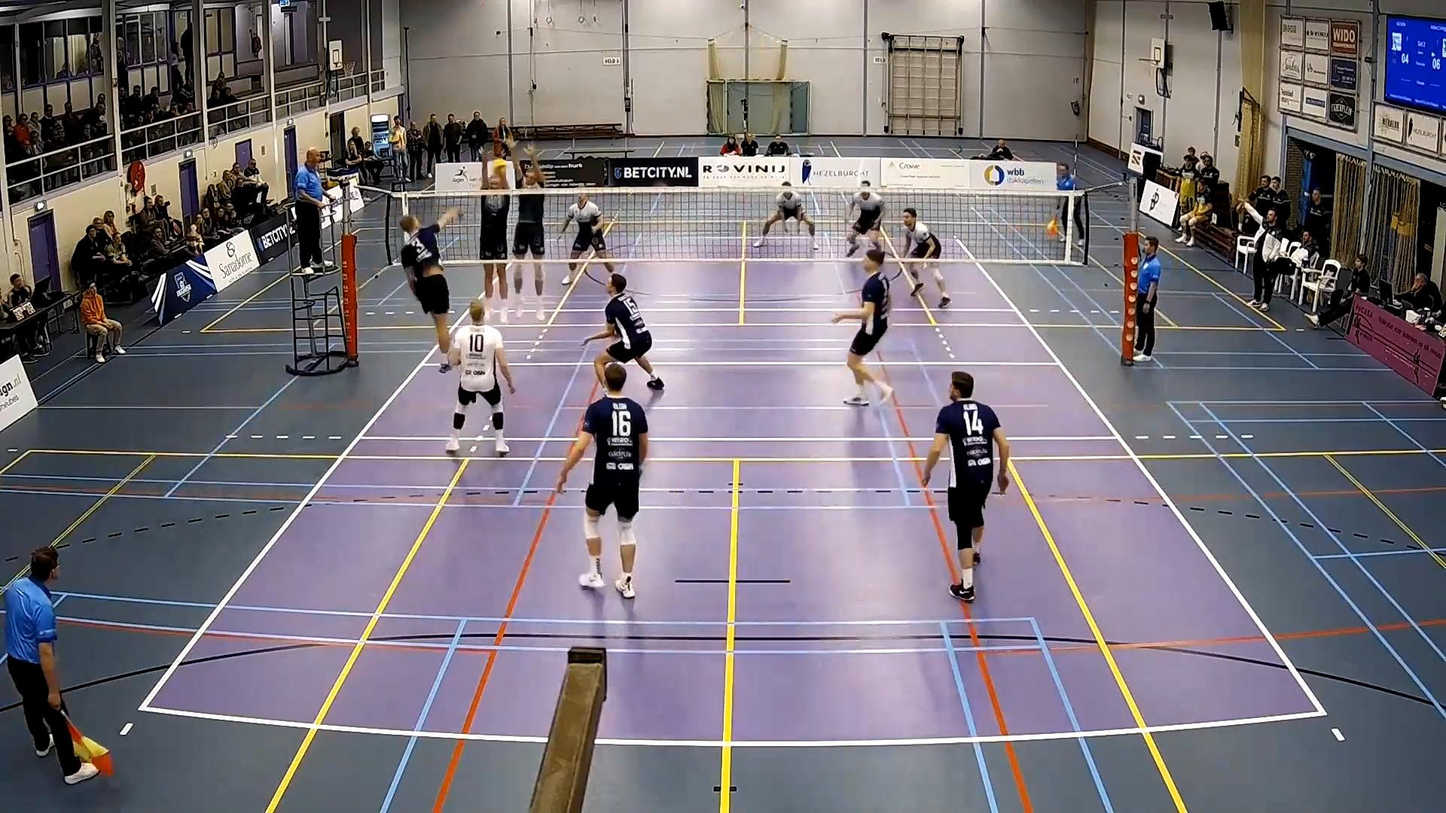Attack: (389, 200, 476, 374)
Block: (507, 139, 546, 321), (476, 147, 513, 326)
Player: (556, 363, 647, 598), (921, 371, 1009, 601), (446, 300, 515, 455), (831, 248, 892, 405), (582, 273, 663, 390), (561, 192, 614, 285), (902, 208, 950, 307), (754, 182, 819, 250), (846, 181, 883, 256)
ball: (492, 157, 508, 176)
